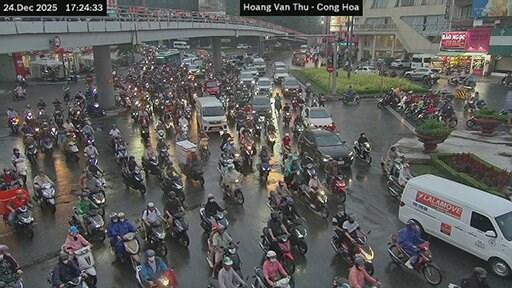motorbike: (329, 233, 374, 274), (259, 226, 294, 274), (69, 207, 105, 241), (413, 242, 441, 283), (298, 184, 326, 217), (73, 246, 96, 284), (284, 219, 306, 253), (221, 242, 242, 277), (160, 172, 184, 201), (147, 220, 166, 255), (169, 211, 188, 246), (221, 174, 243, 203), (387, 235, 409, 264), (32, 183, 54, 211), (122, 167, 144, 193), (387, 162, 403, 197), (13, 208, 32, 237), (326, 176, 345, 202), (150, 268, 176, 286), (182, 163, 204, 184), (88, 189, 105, 215), (380, 157, 403, 176), (300, 156, 316, 183), (141, 157, 160, 178), (352, 140, 370, 162), (240, 140, 255, 166), (252, 265, 268, 286), (13, 158, 25, 183), (63, 275, 88, 287), (199, 207, 210, 234), (198, 136, 210, 160), (0, 274, 24, 286), (156, 144, 169, 166), (115, 144, 128, 166), (25, 140, 37, 163), (438, 113, 457, 127), (378, 94, 397, 108), (64, 138, 76, 160), (272, 275, 294, 287), (86, 103, 105, 116), (211, 211, 227, 226), (41, 135, 53, 153), (464, 99, 485, 109), (137, 265, 147, 286), (7, 117, 19, 134), (332, 275, 349, 287), (259, 161, 269, 181), (291, 121, 304, 136), (332, 275, 348, 287), (265, 130, 275, 149), (342, 93, 358, 103), (83, 153, 96, 165), (253, 120, 261, 138), (422, 76, 434, 88), (140, 126, 149, 142), (12, 88, 25, 99), (496, 76, 511, 85), (179, 121, 188, 136), (281, 144, 291, 157), (281, 112, 290, 126), (463, 77, 474, 88), (205, 256, 213, 268), (156, 129, 165, 139), (466, 117, 476, 126), (47, 270, 53, 283), (291, 97, 297, 109), (35, 109, 44, 116), (499, 108, 508, 113), (364, 283, 378, 286), (61, 244, 66, 252), (214, 266, 217, 271), (220, 179, 221, 180)
